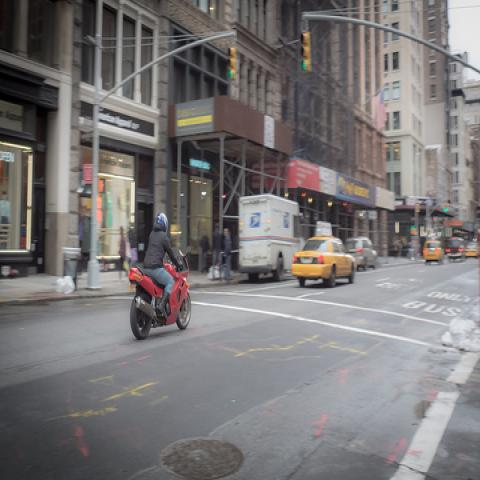car: (291, 236, 357, 288), (345, 237, 378, 271), (446, 237, 468, 262), (423, 240, 446, 261), (461, 244, 479, 256)
motorcycle: (130, 253, 193, 338)
truck: (237, 196, 307, 282)
